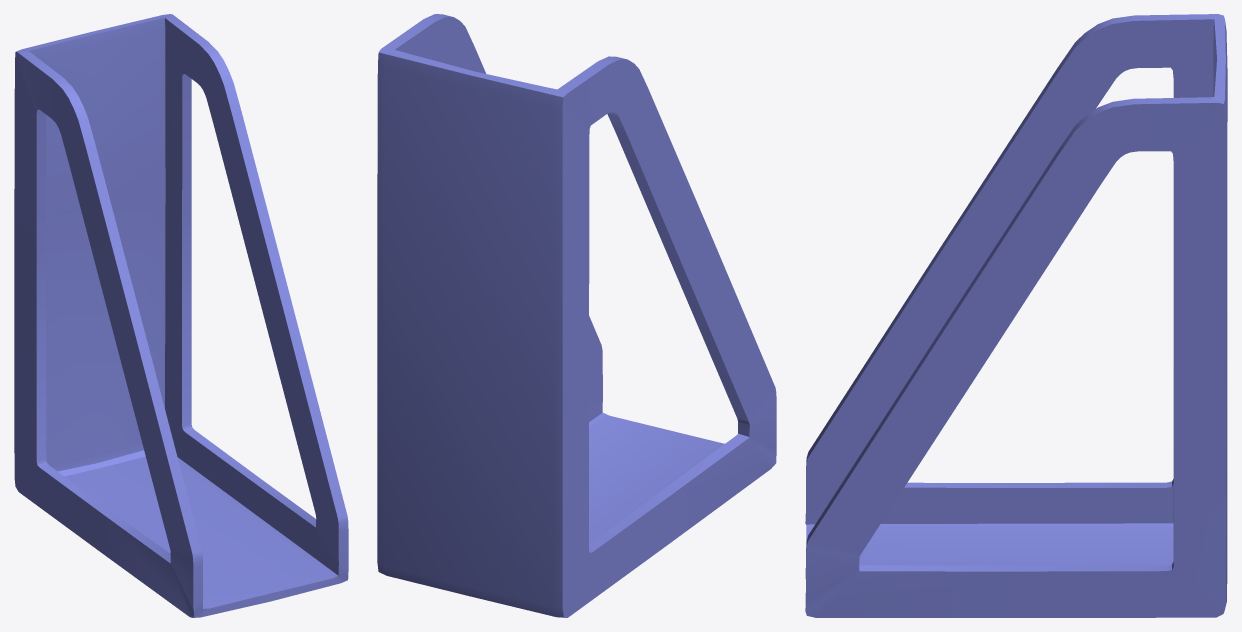
File: file_purple.fbx
3 renders of one model, left to right at view 1: azimuth 30°, elevation 25°; view 2: azimuth 150°, elevation 25°; view 3: azimuth 270°, elevation 25°, orthographic. The views are drawn at different scales.
Visible parts, largest first — view 1: folder stand; view 2: folder stand; view 3: folder stand.
Boxes of the visible parts, left/top/right/bottom form: folder stand: left=14, top=14, right=348, bottom=617; folder stand: left=377, top=14, right=776, bottom=617; folder stand: left=805, top=14, right=1227, bottom=617.
Size of the model in its own units: 1369 by 3706 by 2741.
